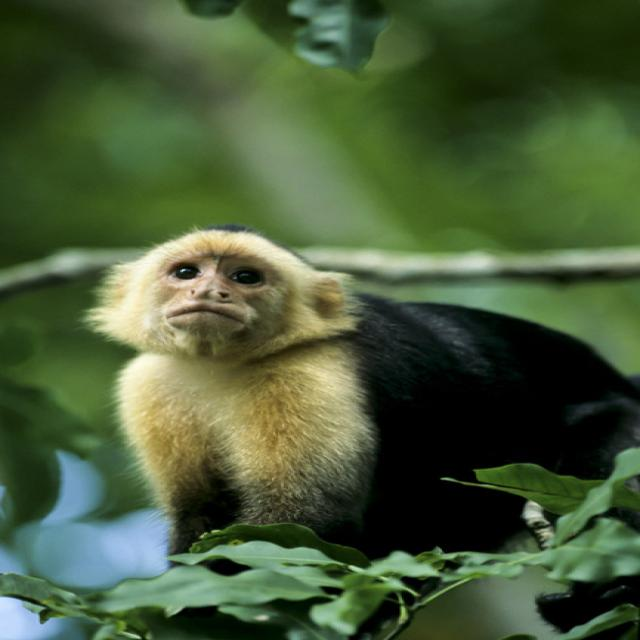not_pig: (84, 223, 640, 636)
